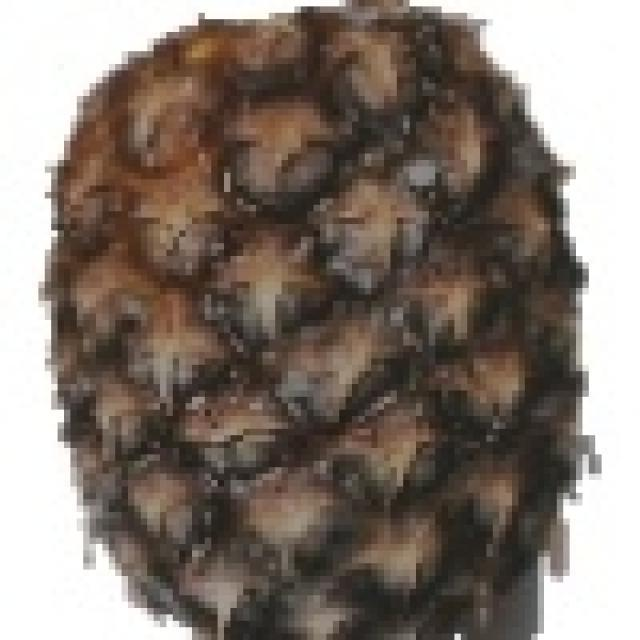pineapple: (45, 0, 584, 640)
